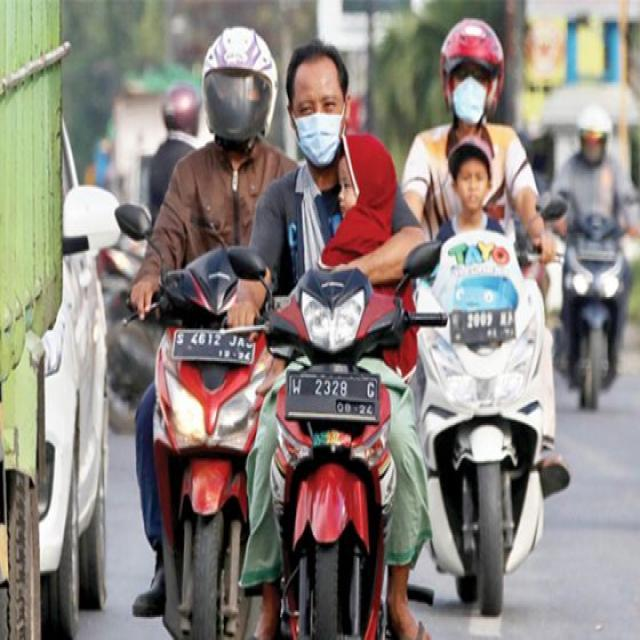Helmet: (202, 27, 277, 142), (440, 19, 503, 110), (577, 104, 612, 164), (162, 83, 200, 135), (448, 136, 493, 178), (577, 104, 612, 135)
Number Plate: (285, 371, 379, 422), (173, 329, 254, 364), (450, 309, 515, 345), (577, 238, 616, 261)
Rearview Mirror: (63, 185, 119, 254), (403, 241, 441, 278), (115, 203, 152, 240), (227, 247, 266, 280), (537, 193, 566, 221)
